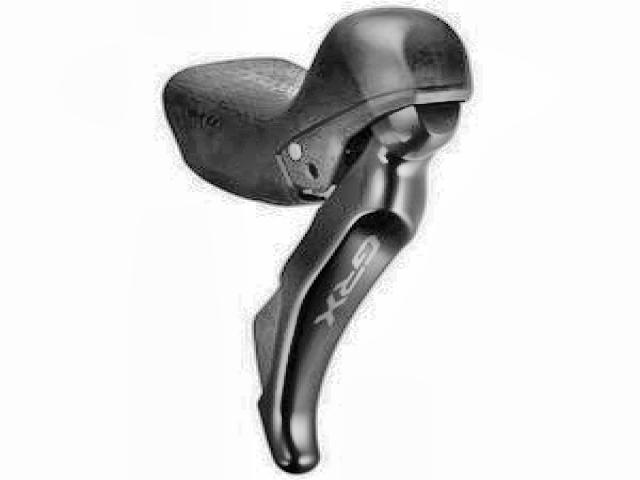sti_shifter: (166, 8, 481, 470)
